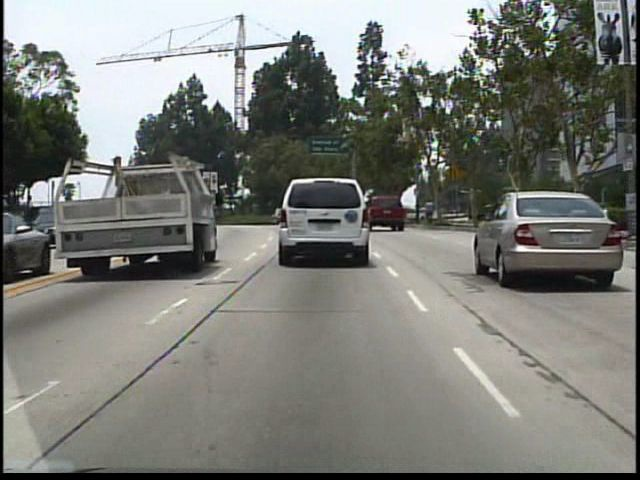person: (424, 194, 437, 227)
